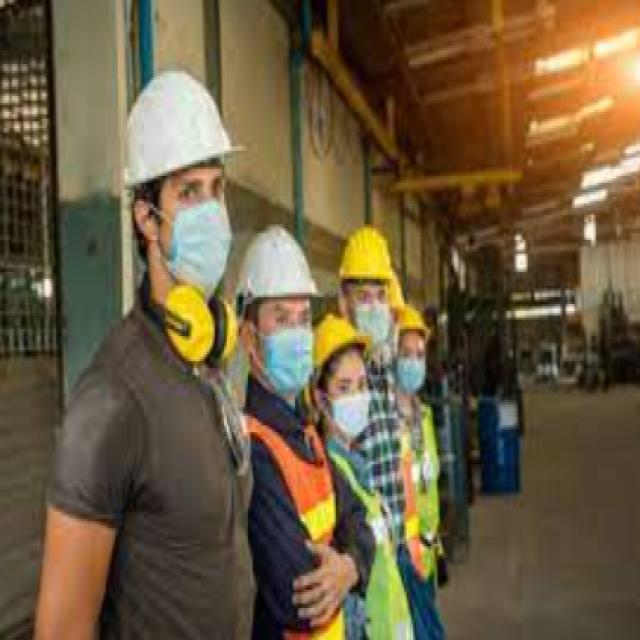hard_hat: (116, 67, 245, 297), (233, 220, 326, 406), (306, 308, 375, 445), (334, 223, 397, 350), (390, 302, 433, 401), (358, 262, 406, 332)
vest: (238, 407, 348, 640), (317, 436, 417, 640), (384, 397, 451, 589)
